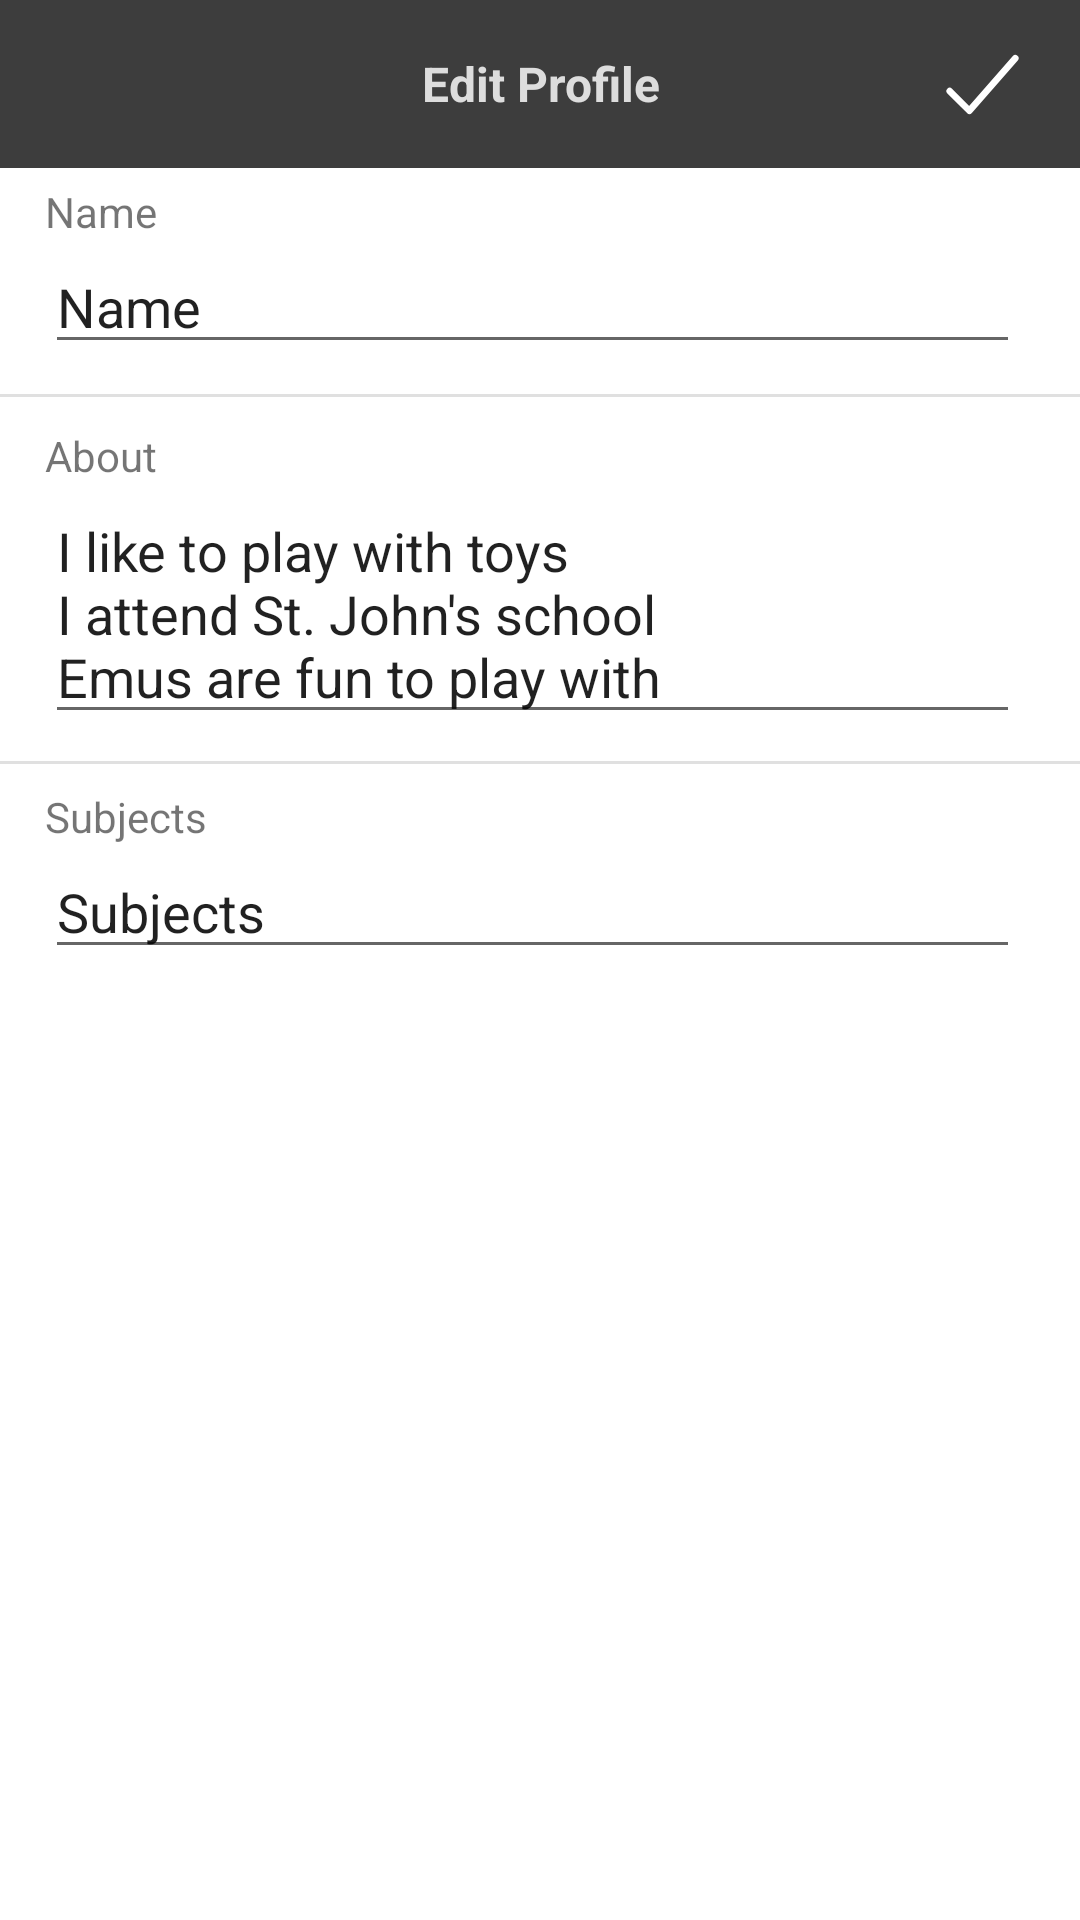

Screen size 1080px x 1920px. Icon name, then its box in pixels as bbox(x1, y1, x2, y2):
checkmark: bbox(946, 54, 1019, 115)
